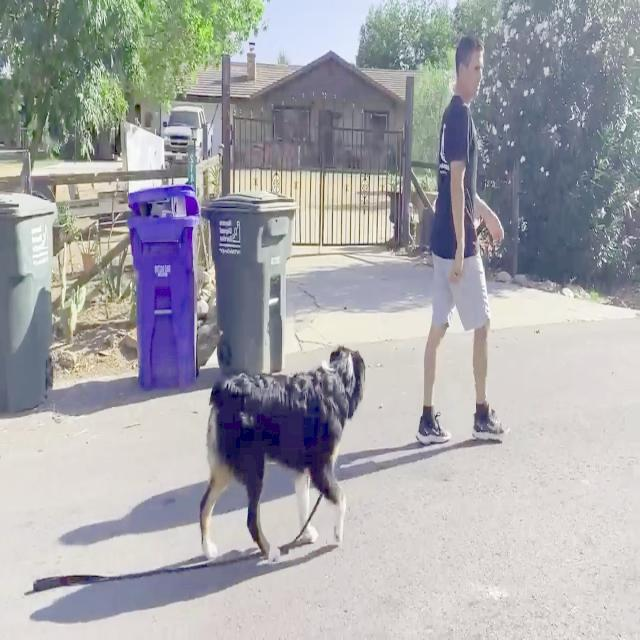Unleashed_Dog: (198, 256, 477, 562)
